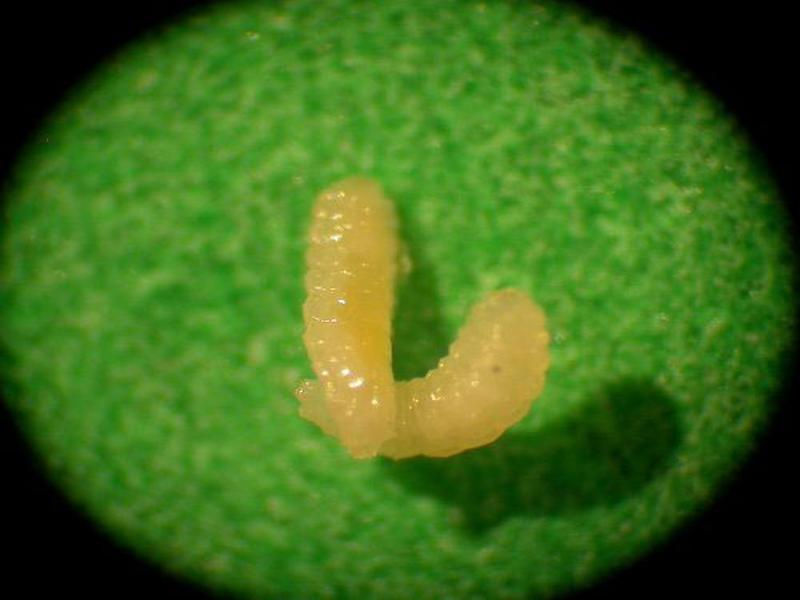Gall_midge: (285, 157, 560, 471)
